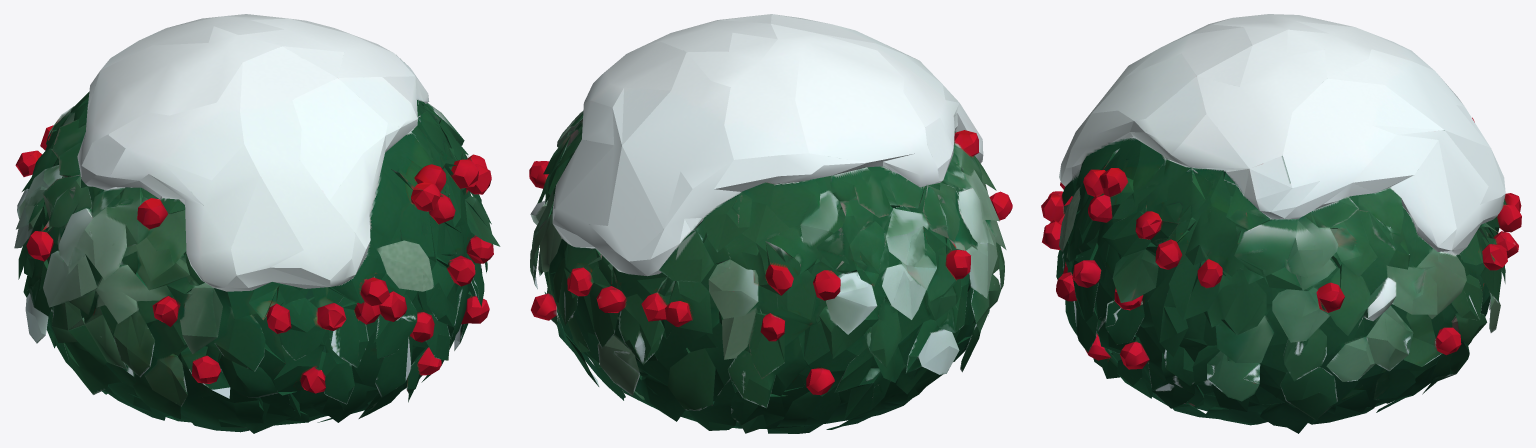
Rendered from snowy_bush.glb.
3 views of the same model, side by side, from view 1: azimuth 30°, elevation 25°; view 2: azimuth 150°, elevation 25°; view 3: azimuth 270°, elevation 25° (orthographic). The views are drawn at different scales.
Bounding box in the file's own units: 1.9 × 1.46 × 1.9.
1 material, 1 textured.
